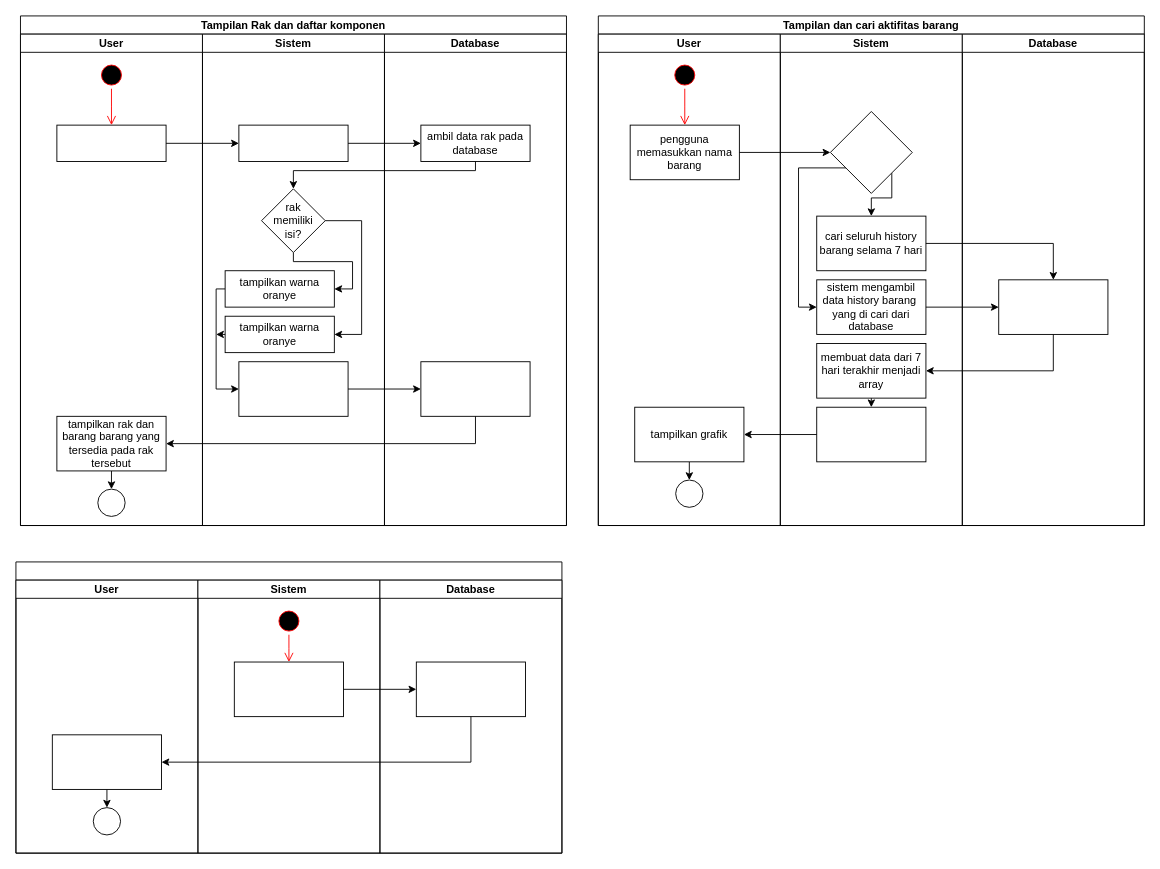
Some shapes in this 1160 by 869 pixel diagram are drawn without their labels. The shapes that lost their labels are listed below. From the top down, each one's box as (x1, y1, x2, y2) in pixels, then its label:
(56, 124, 166, 162): pengguna mengganti rak
(238, 124, 348, 162): proses permintaan pengguna
(829, 111, 912, 193): apakah sistem mendapatkan data
(998, 279, 1108, 334): pengambilan data history barang 7 hari terakhir
(238, 361, 348, 416): proses tampilan dari data rak yang ada
(420, 361, 530, 416): ambil data barang yang ada pada rak di database
(816, 406, 926, 462): membuat grafik dari data array
(233, 661, 344, 717): ambil history seluruh barang pada 7hari terakhir
(15, 561, 562, 853): Riwayat
(415, 661, 526, 717): ambil data dari databse
(51, 734, 162, 789): tampilkan data dari 7 hari terakhir
